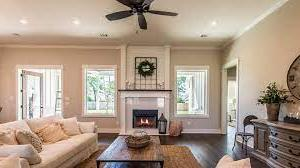chair: (233, 113, 256, 157)
clock: (287, 53, 300, 103)
door: (21, 71, 43, 120)
fan: (103, 0, 182, 30)
light: (16, 14, 30, 30), (70, 16, 84, 28), (208, 20, 220, 28)
sofa: (1, 111, 99, 168)
table: (95, 134, 166, 168), (252, 118, 300, 168)
